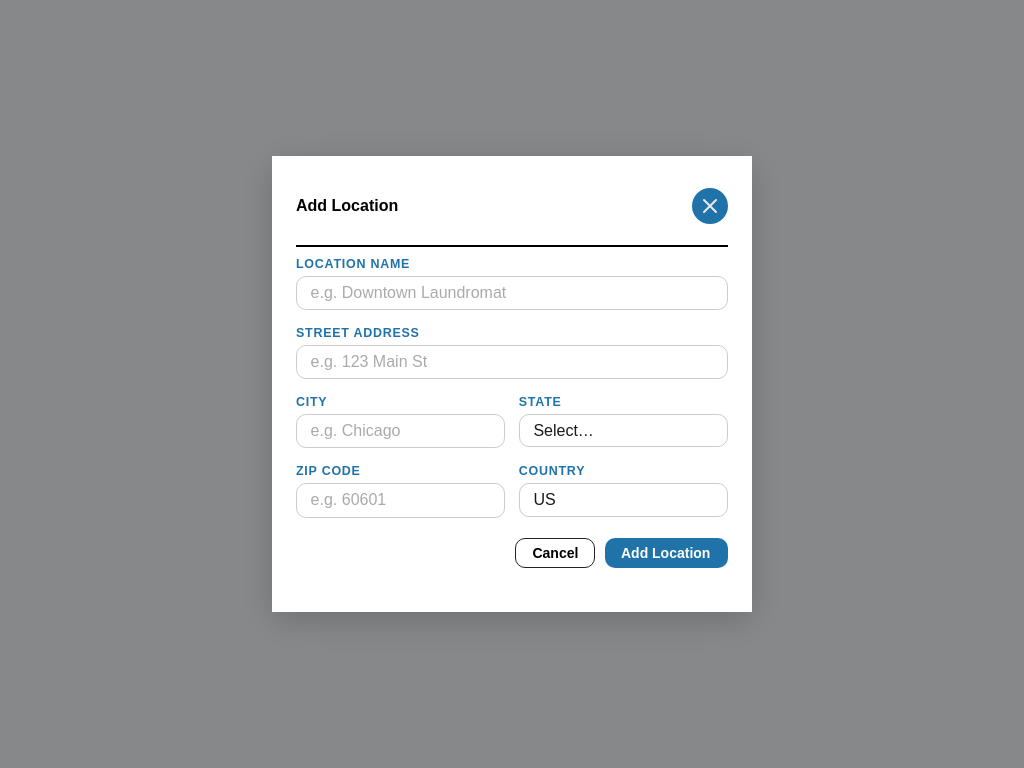
Test: AddLocationModal › submission › shows error banner when addLocations returns an error string
Type "Downtown Laundromat" into the field labelled "Location Name". click: coordinates (512, 293)
box: [296,276,728,310]
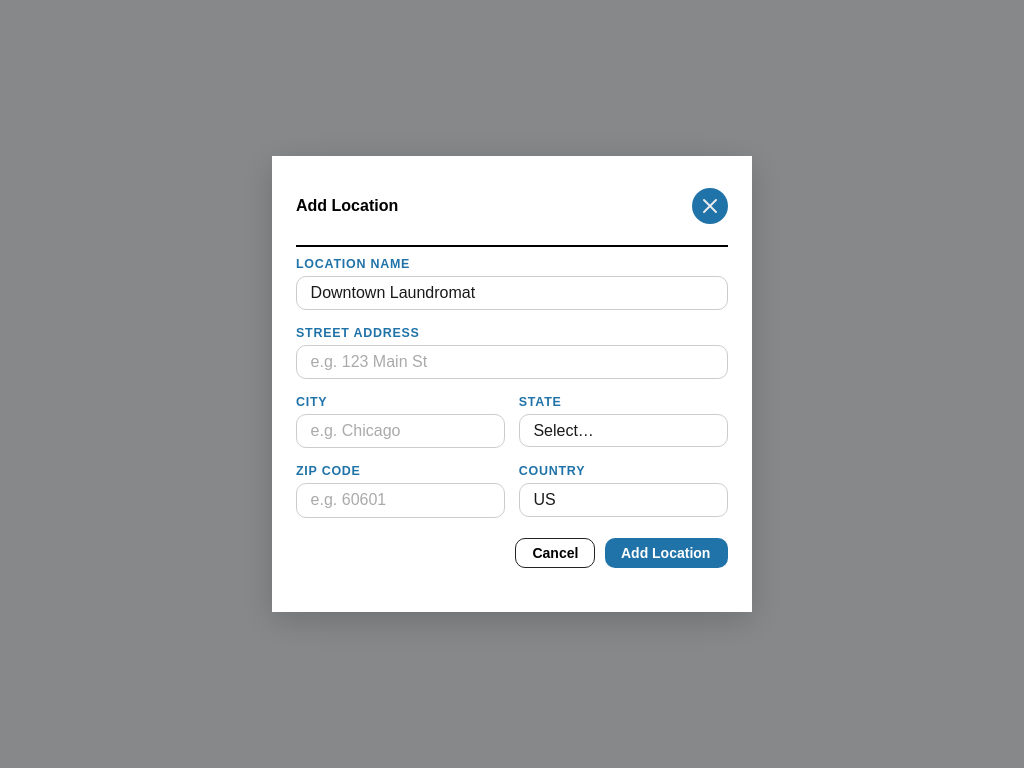
Type "123 Main St" into the field labelled "Street Address". click: coordinates (512, 362)
box: [296,345,728,379]
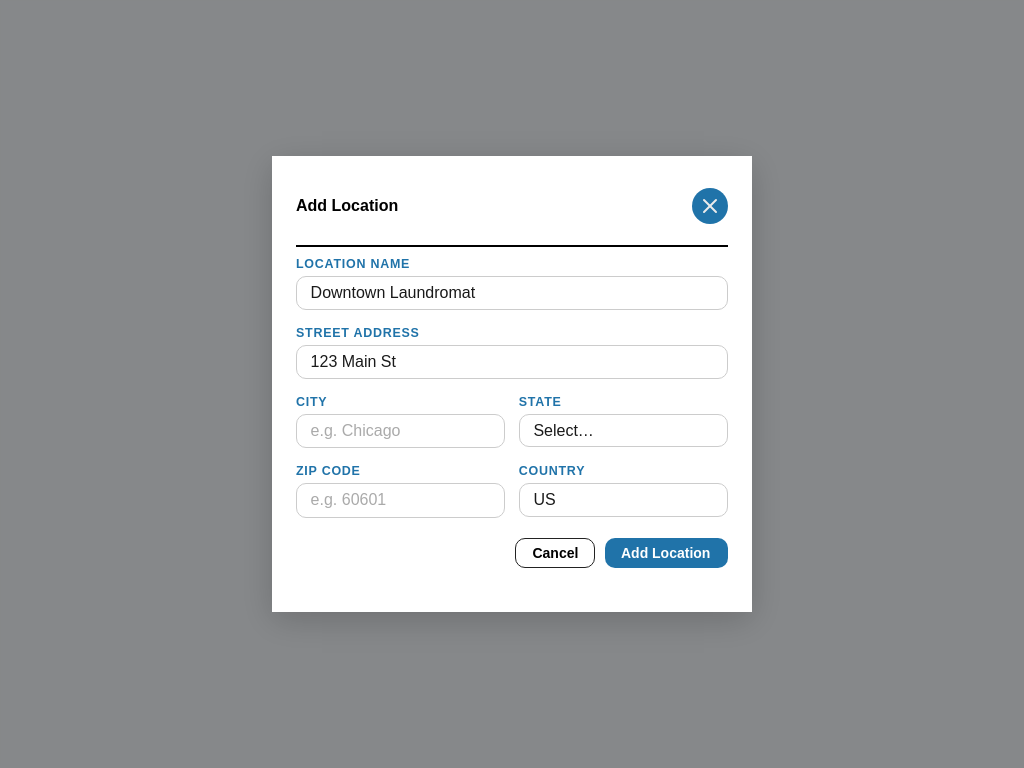
Type "Indianapolis" into the field labelled "City". click: coordinates (401, 431)
box: [296,414,505,448]
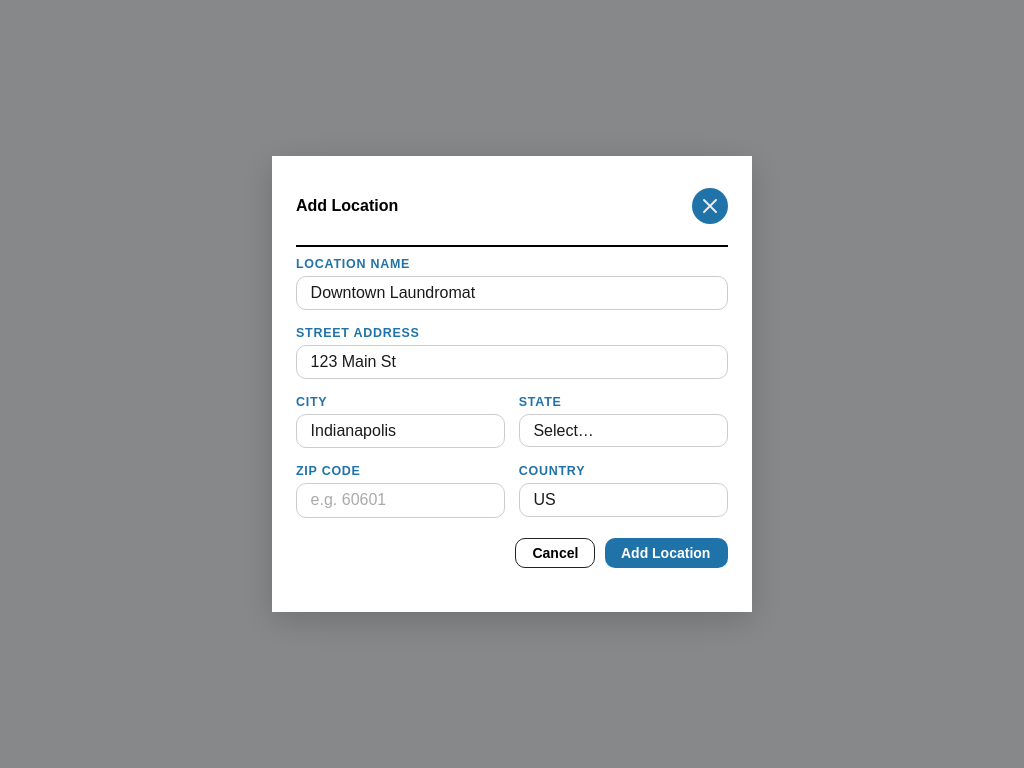
Select "IN" in the dropdown labelled "State". click: coordinates (623, 431)
box: [519,414,728,447]
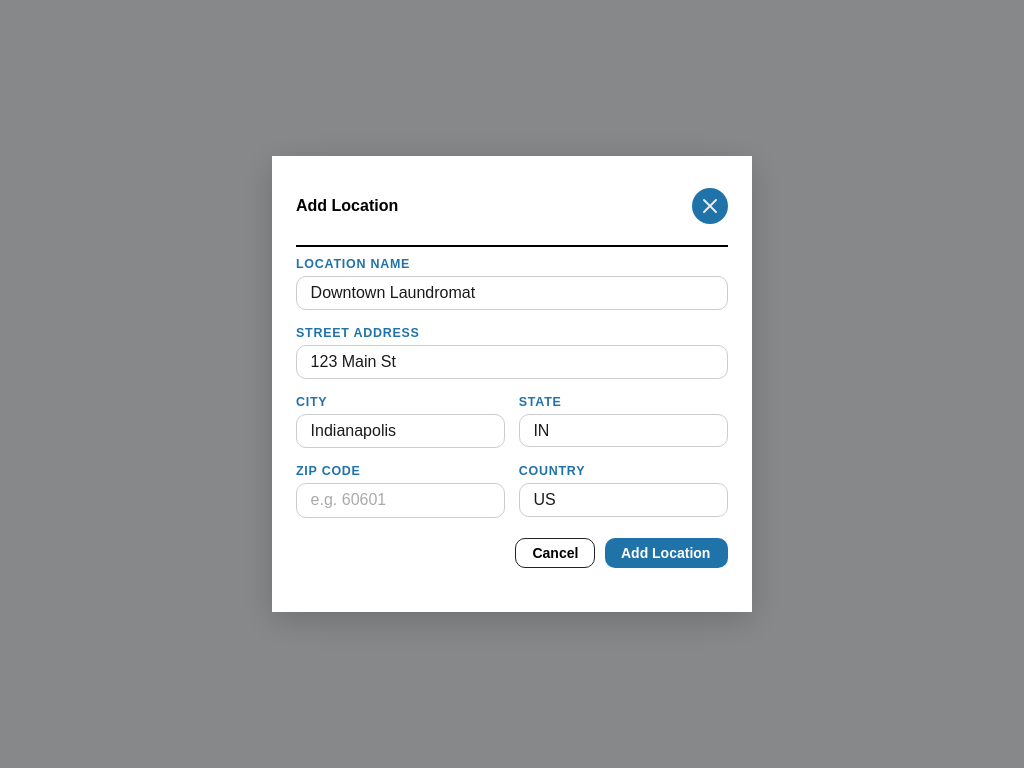
Type "46201" into the field labelled "ZIP Code". click: coordinates (401, 500)
box: [296,483,505,518]
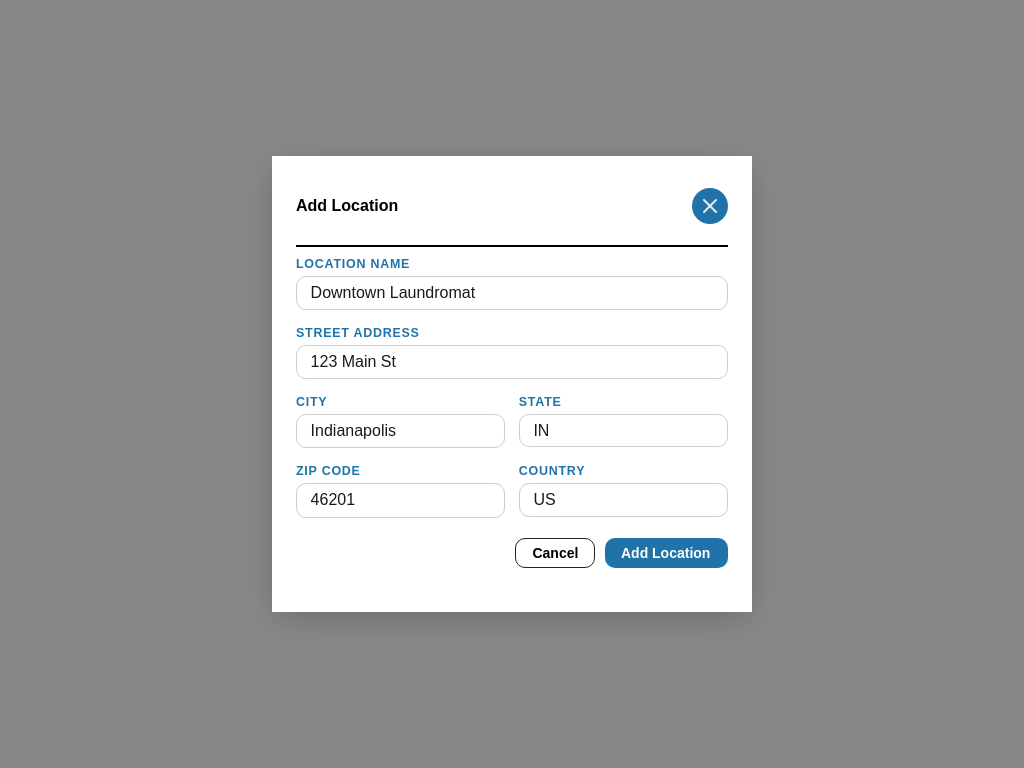
Click the button "Add Location". click: coordinates (666, 553)
box: [605,538,728,568]
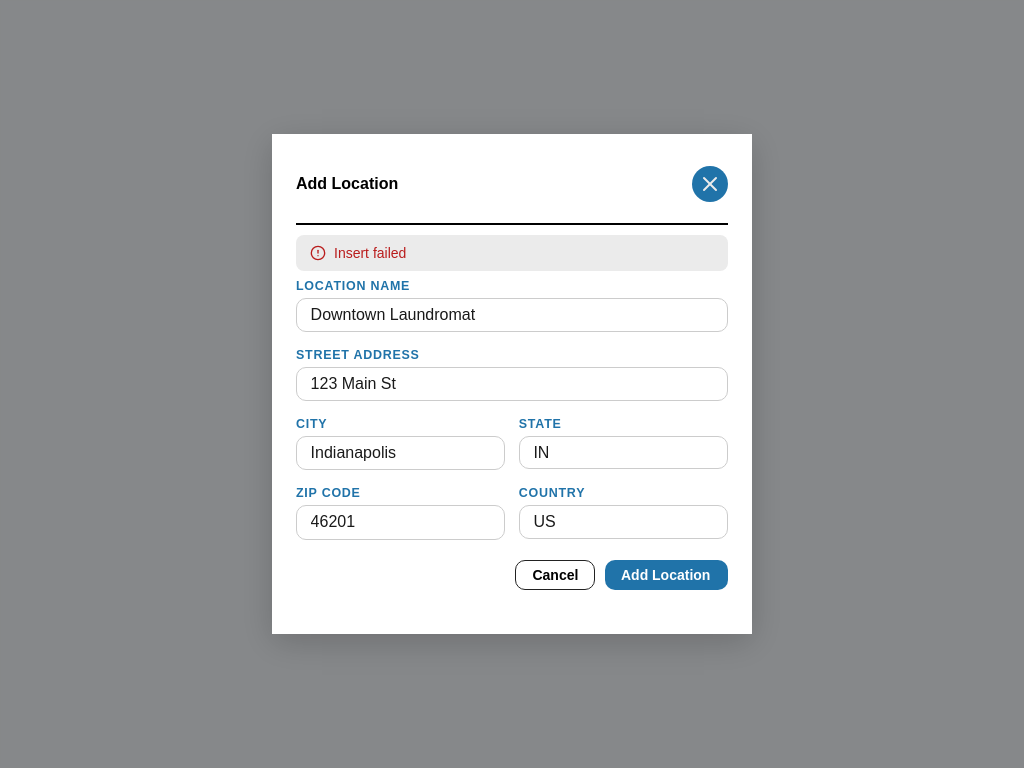
Check: the text "Insert failed" is shown, box [334,245,406,261]
